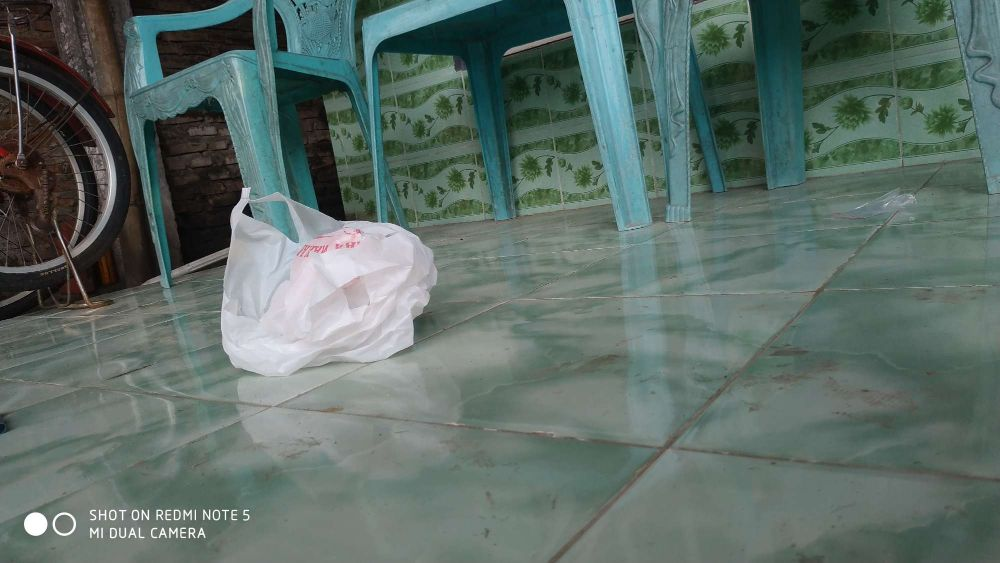plastik: (204, 176, 455, 372)
